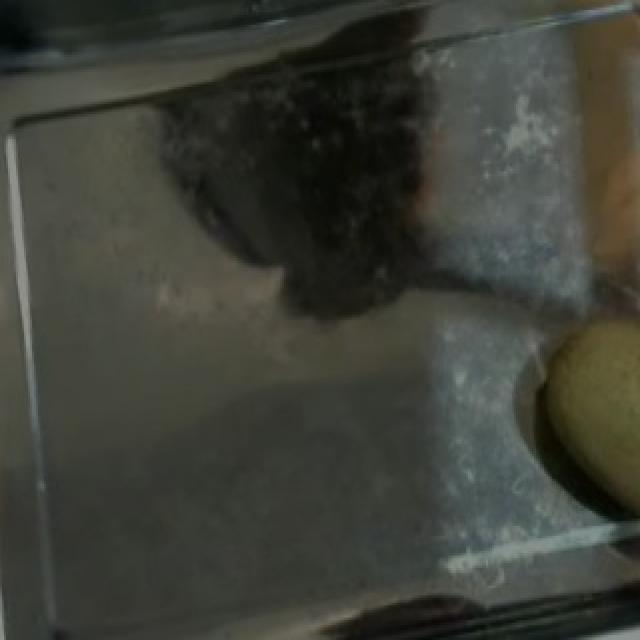Fruit: (512, 288, 640, 543), (542, 3, 640, 315)
